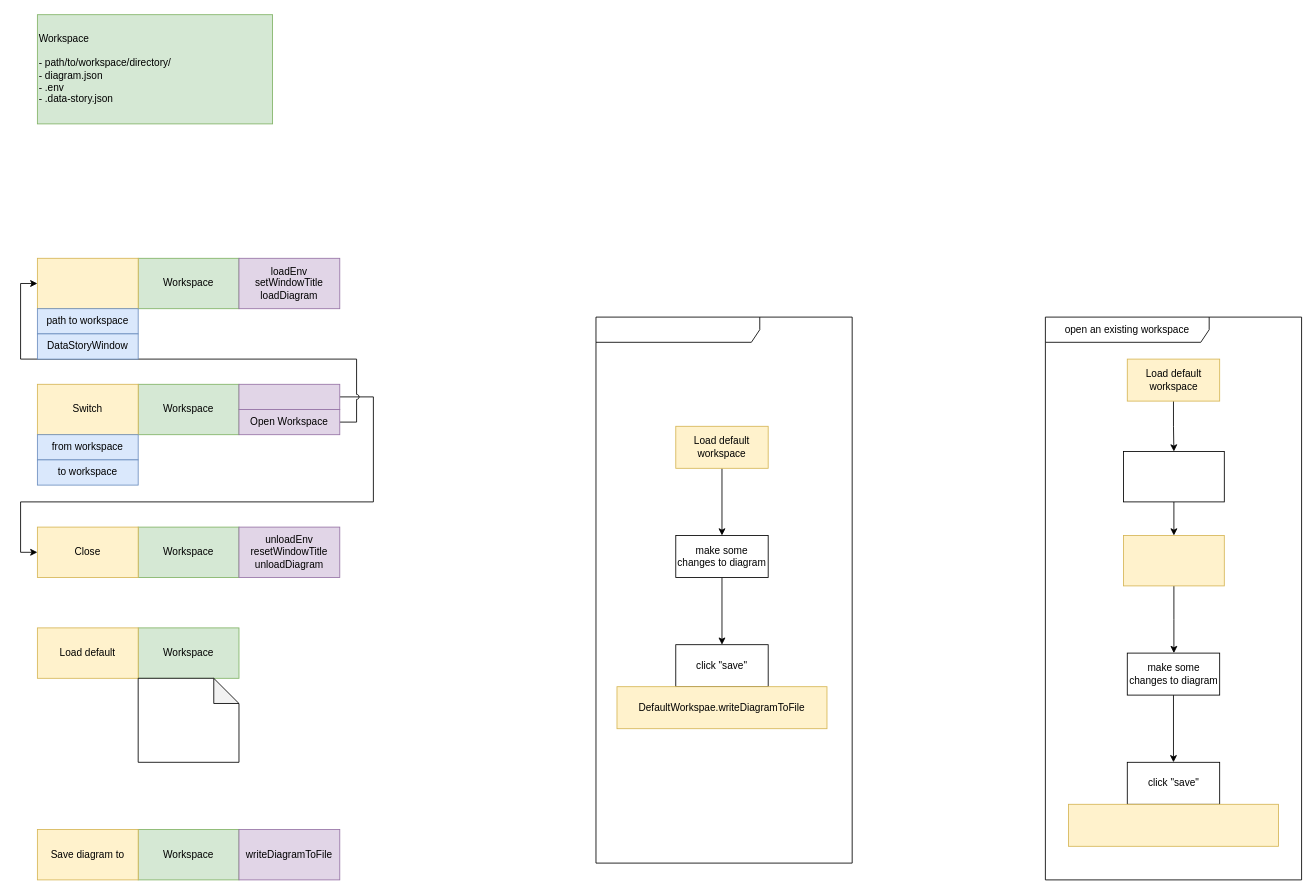
The diagram is 1316 pixels wide and 895 high, and some of its shapes have lost their labels. Each missing label, with the centre of its shape:
a special workspace object. NULL object pattern: point (188, 719)
Close Workspace: point (289, 396)
Open: point (87, 283)
open app without workspace: point (723, 589)
Select workspace path: point (1173, 476)
Switch workspace: point (1173, 560)
workspace.writeDiagramToFile: point (1173, 824)
